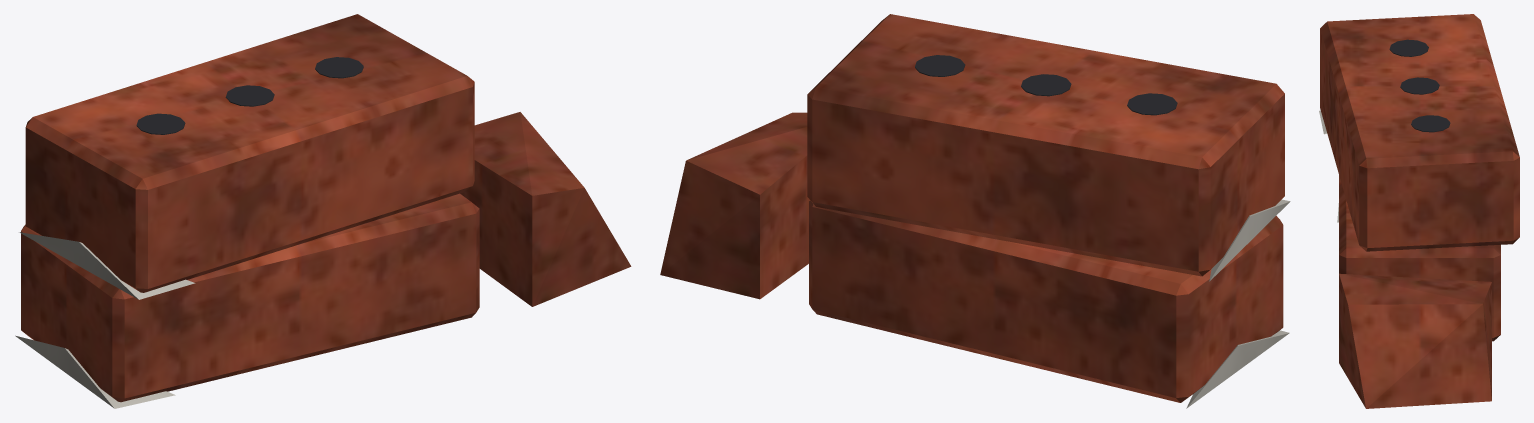
File: tijolo.glb
3 views of the same model, side by side, from view 1: azimuth 30°, elevation 25°; view 2: azimuth 150°, elevation 25°; view 3: azimuth 270°, elevation 25° (orthographic). The views are drawn at different scales.
Visible parts, largest first — view 1: tijolo_tijolo, tijolo_cimento_saco, tijolo_carvao; view 2: tijolo_tijolo, tijolo_cimento_saco, tijolo_carvao; view 3: tijolo_tijolo, tijolo_carvao.
Boxes of the visible parts, <box> form: tijolo_tijolo: <box>21,14,631,402</box>; tijolo_cimento_saco: <box>15,232,195,408</box>; tijolo_carvao: <box>136,57,363,134</box>; tijolo_tijolo: <box>660,14,1284,402</box>; tijolo_cimento_saco: <box>1186,199,1290,408</box>; tijolo_carvao: <box>915,55,1177,115</box>; tijolo_tijolo: <box>1320,14,1519,408</box>; tijolo_carvao: <box>1389,39,1450,132</box>.
Bounding box in the file's own units: 0.2807 × 0.1144 × 0.1117.
3 materials, 2 textured.
